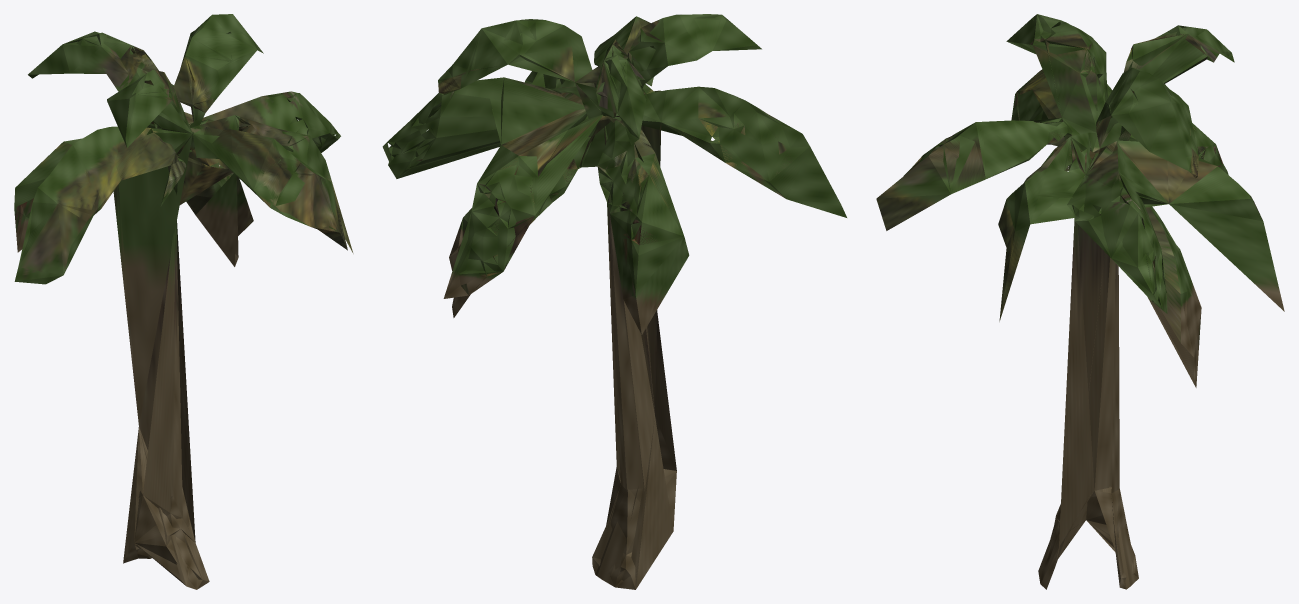
Rendered from coconut_palm_reduced.glb.
3 renders of one model, left to right at view 1: azimuth 30°, elevation 25°; view 2: azimuth 150°, elevation 25°; view 3: azimuth 270°, elevation 25°, orthographic. The views are drawn at different scales.
Parts seen in each view (by area): view 1: CoveredSurface; view 2: CoveredSurface; view 3: CoveredSurface.
Boxes of the visible parts, x1,y1,x2,y2 form: CoveredSurface: (14, 14, 353, 589); CoveredSurface: (382, 14, 846, 589); CoveredSurface: (876, 14, 1284, 589).
Bounding box in the file's own units: 1.52 × 1.97 × 1.34.
1 material, 1 textured.
